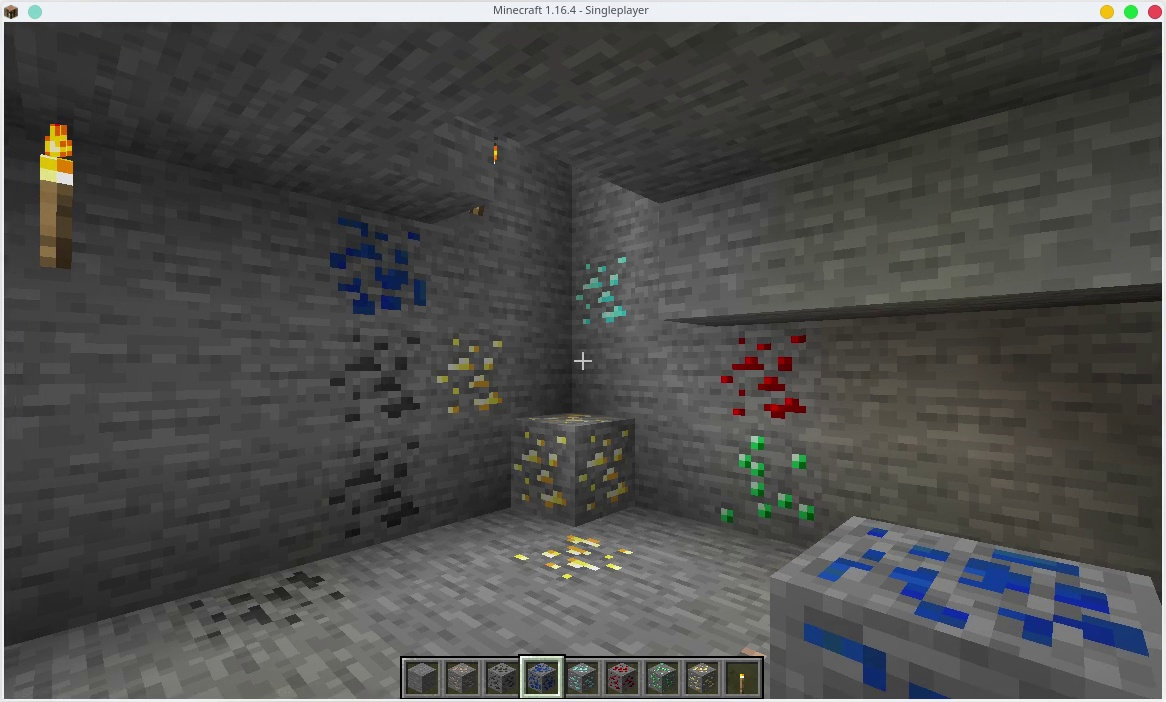gold: (515, 416, 628, 511), (513, 533, 637, 586), (434, 338, 508, 411), (685, 664, 720, 692)
